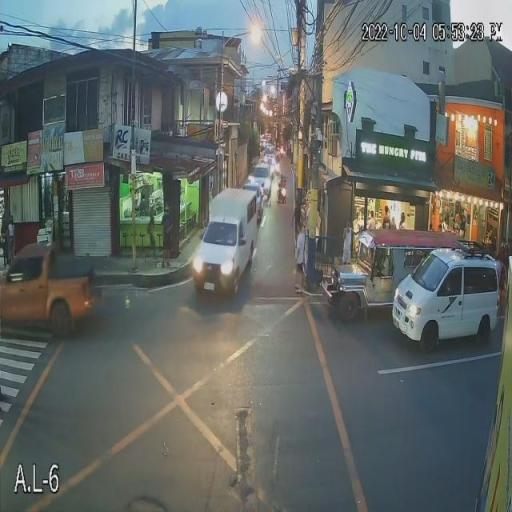motorcycle: (278, 187, 286, 206)
rider: (280, 175, 285, 192)
